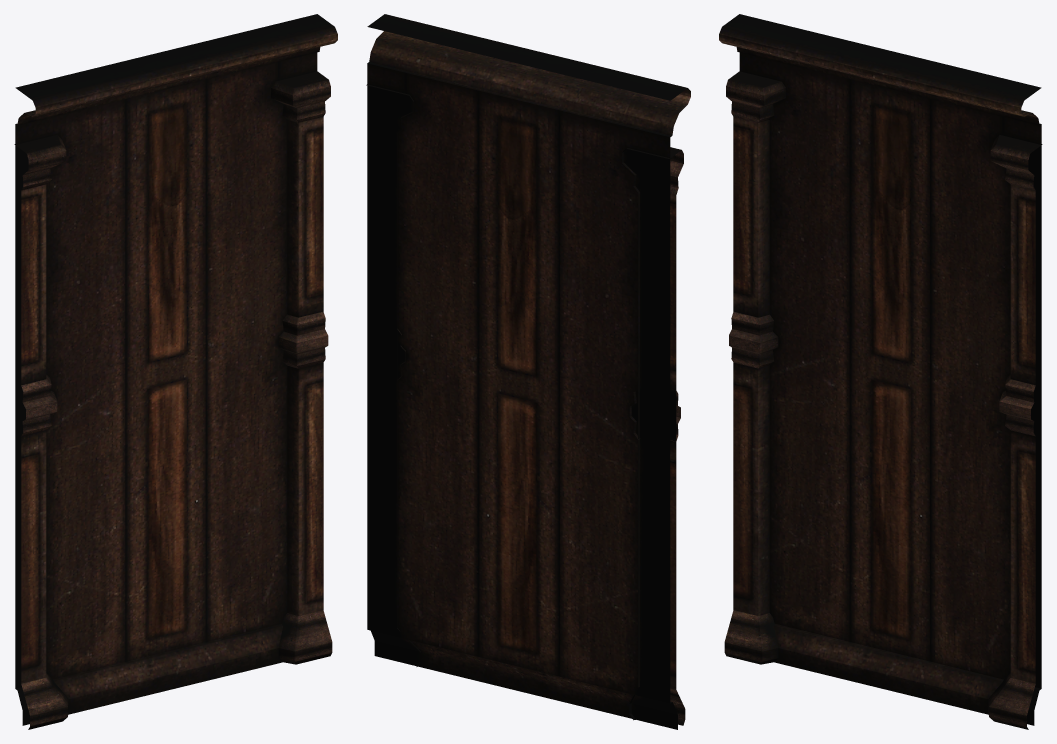
File: default02_small.DAE
3 renders of one model, left to right at view 1: azimuth 30°, elevation 25°; view 2: azimuth 150°, elevation 25°; view 3: azimuth 330°, elevation 25°, orthographic.
Parts seen in each view (by area): view 1: default030; view 2: default030; view 3: default030.
Part boxes in pixels (left/top/right/bottom): default030: left=14, top=14, right=337, bottom=729; default030: left=366, top=14, right=690, bottom=729; default030: left=719, top=14, right=1042, bottom=729.
Bounding box in the file's own units: 2 × 4 × 0.2475.
